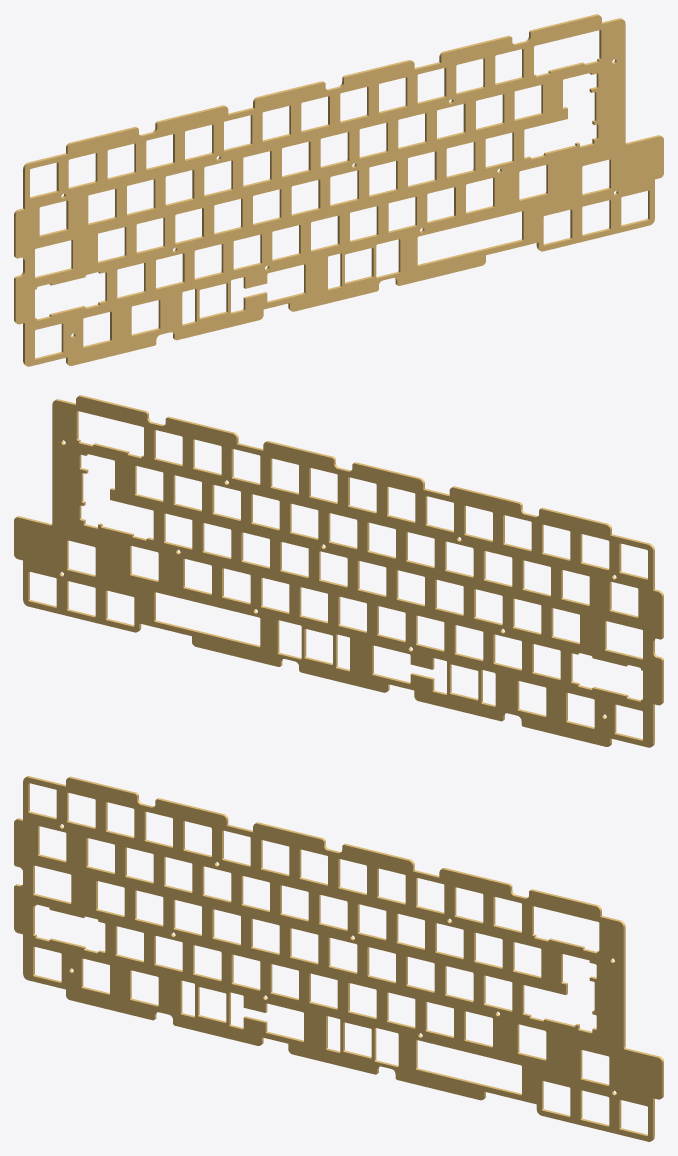
The model's file is Plate.obj.
The picture shows the model from 3 angles, top to bottom: view 1: azimuth 30°, elevation 25°; view 2: azimuth 150°, elevation 25°; view 3: azimuth 330°, elevation 25°; orthographic projection.
Visible parts, largest first — view 1: Plate; view 2: Plate; view 3: Plate.
Boxes of the visible parts, x1,y1,x2,y2 form: Plate: [14, 14, 663, 366]; Plate: [14, 395, 663, 747]; Plate: [14, 776, 663, 1141].
Bounding box in the file's own units: 319 × 105 × 1.5.
